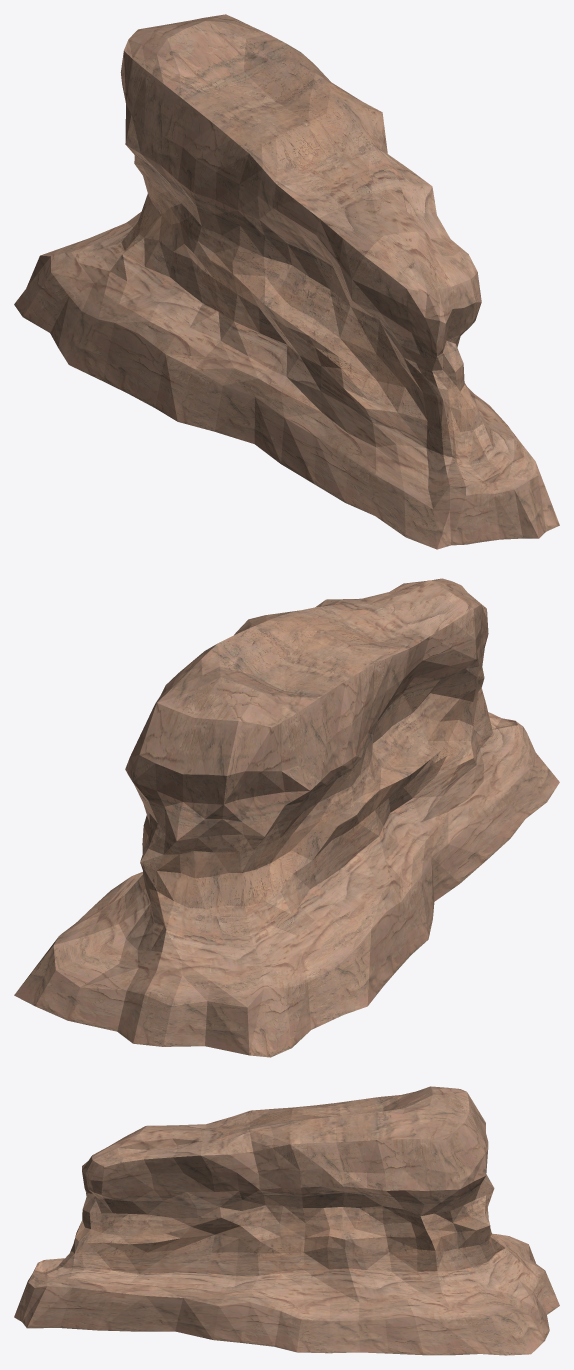
File: rock_tatt_spire_fin_l0.fbx
The picture shows the model from 3 angles, top to bottom: view 1: azimuth 30°, elevation 25°; view 2: azimuth 150°, elevation 25°; view 3: azimuth 270°, elevation 25°; orthographic projection. The views are drawn at different scales.
Parts seen in each view (by area): view 1: mesh_node; view 2: mesh_node; view 3: mesh_node.
Boxes of the visible parts, <box> form: mesh_node: <box>14,14,559,549</box>; mesh_node: <box>14,578,559,1057</box>; mesh_node: <box>14,1086,559,1355</box>.
Bounding box in the file's own units: 98.84 × 99.76 × 232.
